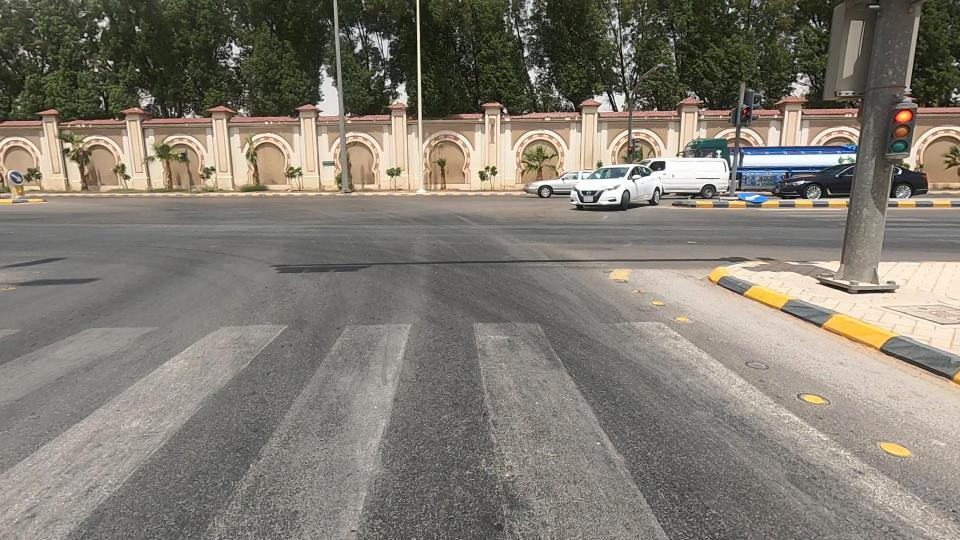BROKEN_SIGNAGE: (675, 161, 806, 227)
